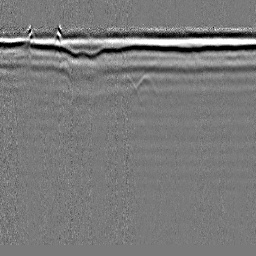cavity: (119, 70, 141, 105)
